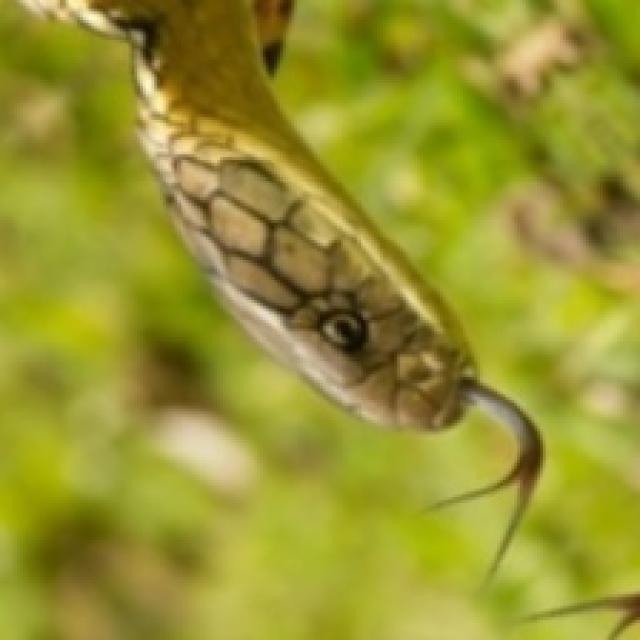king cobra: (111, 0, 471, 426), (154, 403, 251, 494), (146, 346, 200, 400)
